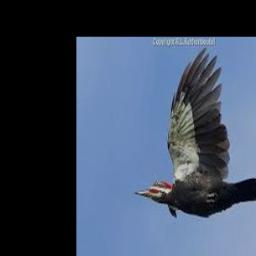Woodpecker: (133, 47, 256, 216)
